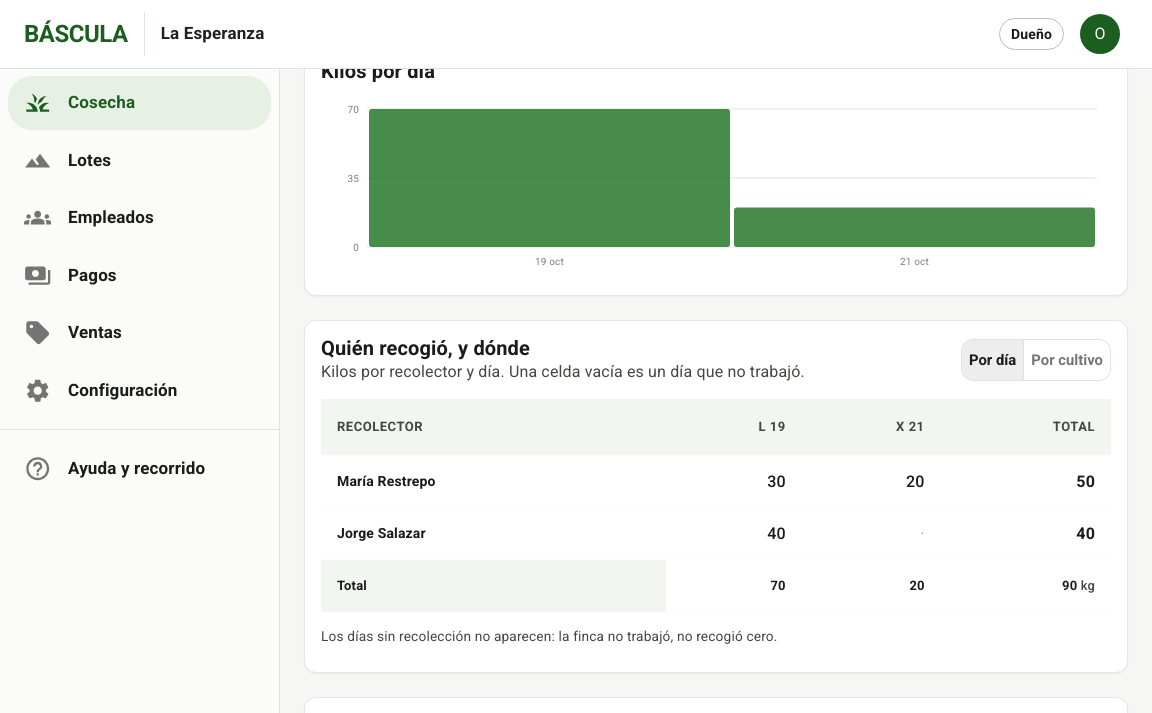
Test: the week detail cross-foots on screen › switches the same week to worker x crop, keeping the grand total
(page scrolled)
Expected: the heading "Quién recogió, y dónde" is shown, [321, 336, 530, 360]
Click the button "Por cultivo" at (1067, 360), box [1023, 339, 1111, 381]
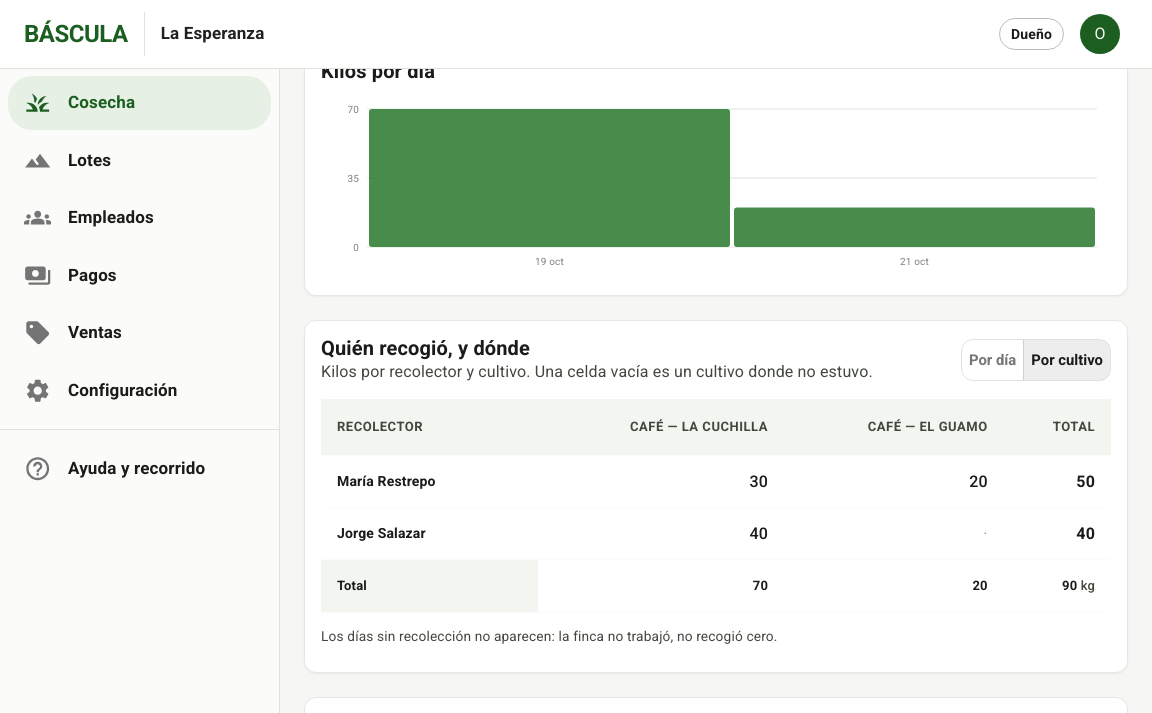
Expected: the text "90" is shown, [1062, 578, 1077, 593]
Expected: the text "Kilos por recolector y cultivo" is shown, [321, 362, 873, 381]
